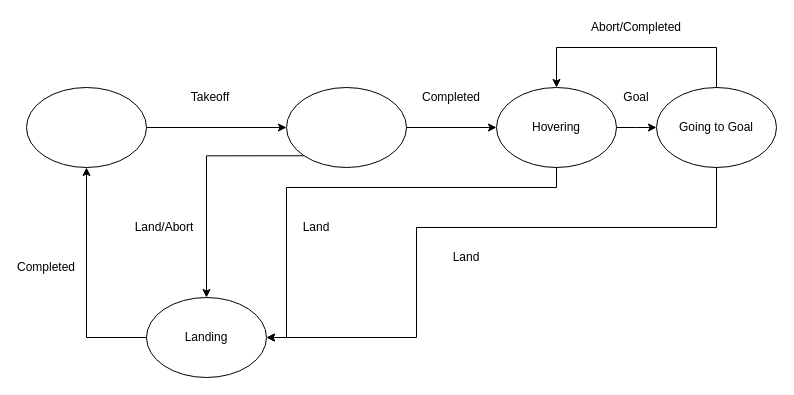
Image size: 794x395. Some labels were removed from this diagram. Each missing label, with the centre of its shape:
Landed: [86,127]
Taking Off: [346,127]
